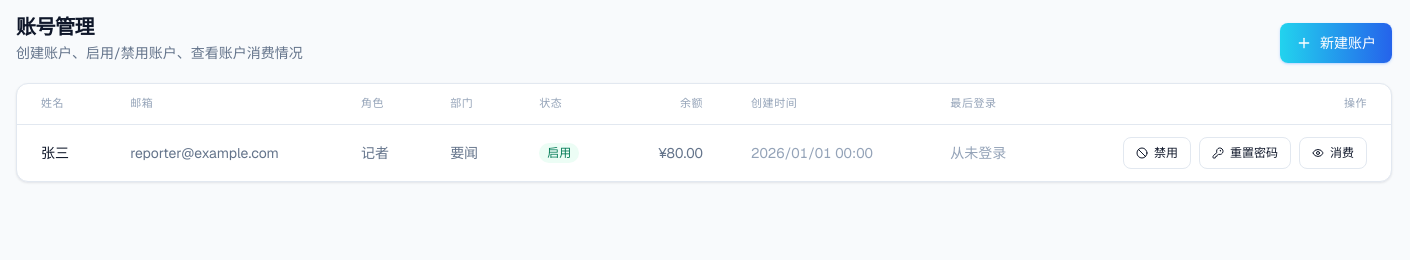
Test: AccountsPage › disables an active account on toggle
Check: the text "张三" is shown, box [17, 124, 106, 181]
Click the button "禁用" at (1157, 153), box [1123, 137, 1191, 169]
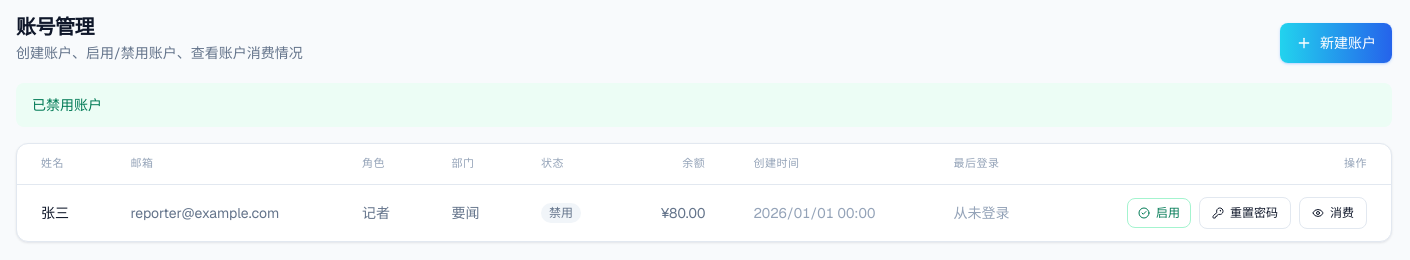
Check: the text "已禁用账户" is shown, box [16, 83, 1392, 127]
